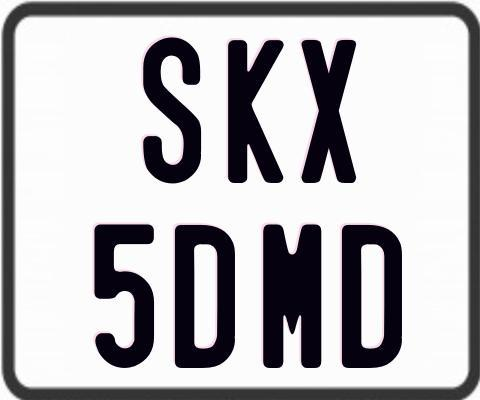5: (94, 221, 154, 365)
D: (339, 225, 403, 373), (174, 222, 238, 369)
K: (227, 38, 289, 186)
M: (262, 222, 325, 370)
S: (140, 36, 199, 183)
X: (298, 38, 354, 183)
